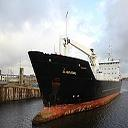Ships: (24, 34, 123, 126)
